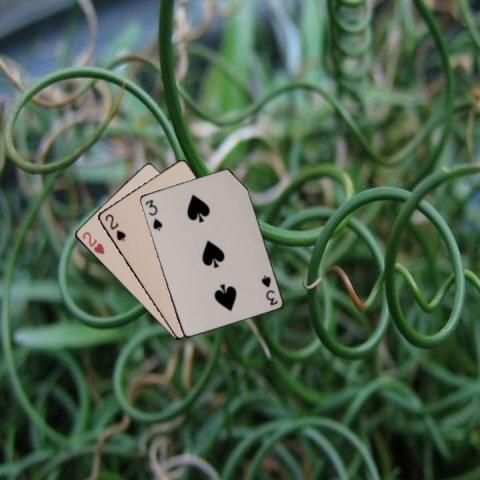2h: (79, 229, 106, 256)
2s: (102, 210, 127, 243)
3s: (258, 272, 279, 307), (142, 197, 163, 231)
